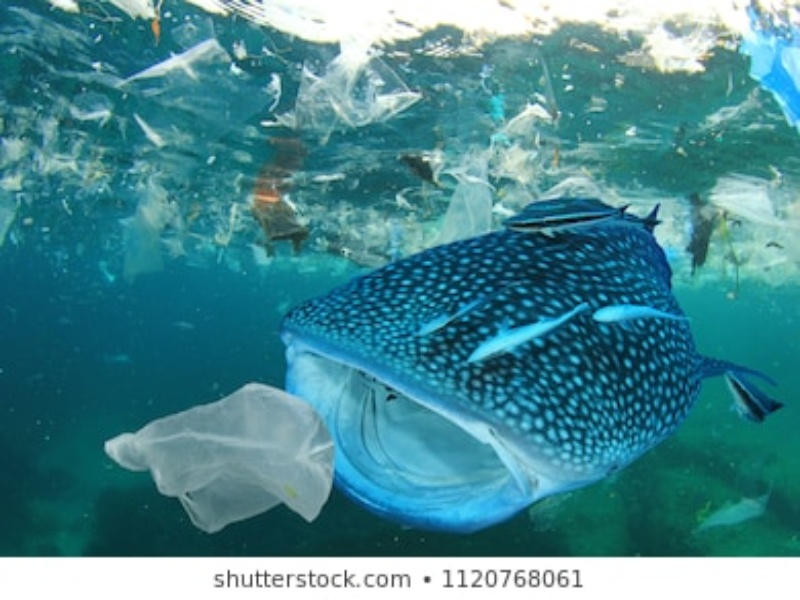plastic-bag: (101, 380, 339, 536)
